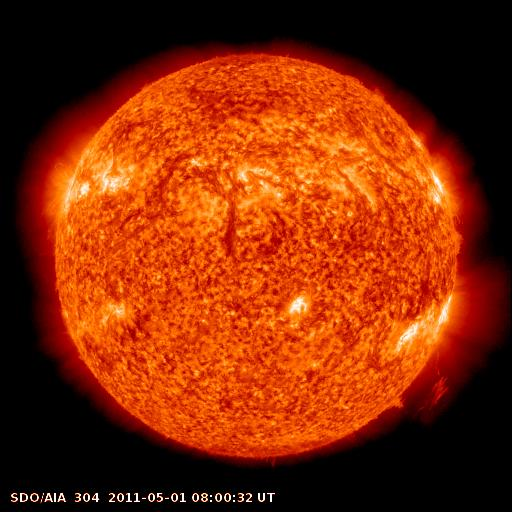prominence: (387, 349, 465, 420), (443, 226, 474, 262)
